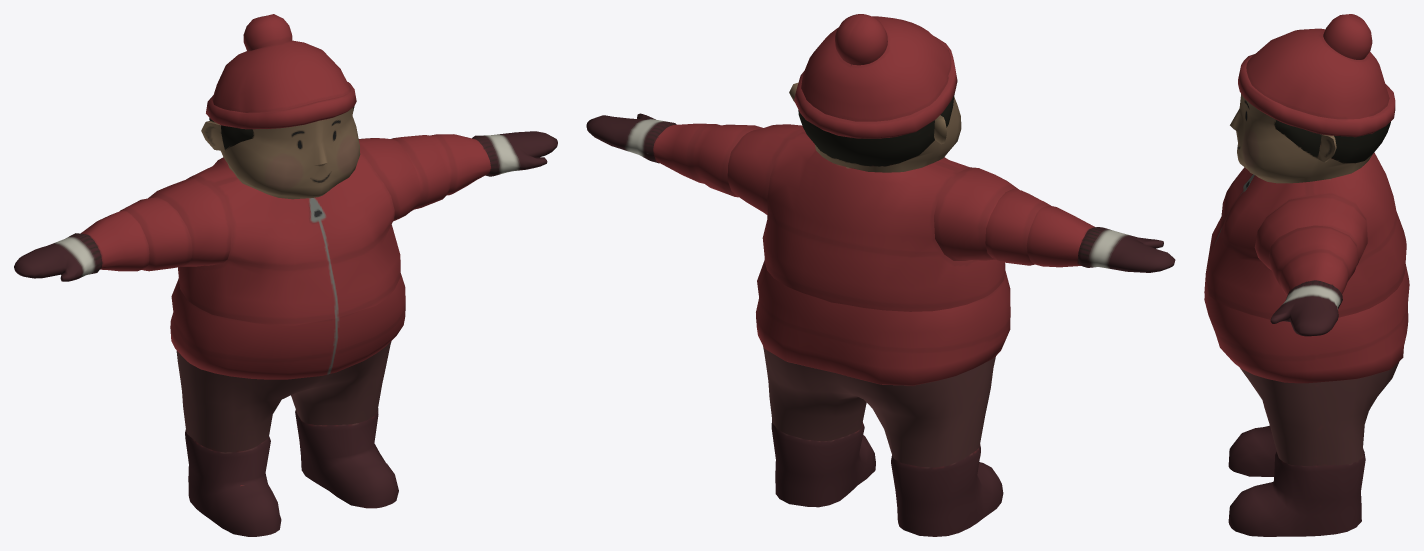
Rendered from ART-MOD-A-Character-002.FBX.
3 views of the same model, side by side, from view 1: azimuth 30°, elevation 25°; view 2: azimuth 150°, elevation 25°; view 3: azimuth 270°, elevation 25° (orthographic). The views are drawn at different scales.
Parts seen in each view (by area): view 1: Character01; view 2: Character01; view 3: Character01.
Boxes of the visible parts, <box> form: Character01: <box>14,14,557,536</box>; Character01: <box>586,14,1175,536</box>; Character01: <box>1204,14,1409,536</box>.
Bounding box in the file's own units: 66.61 × 54.77 × 21.28.
